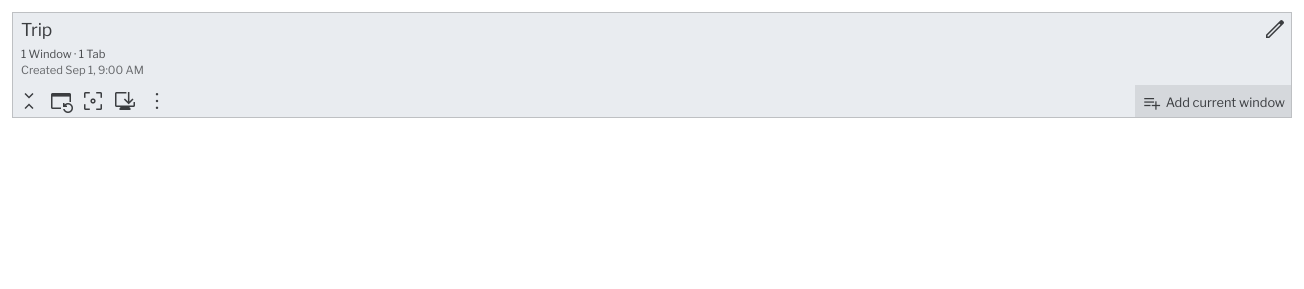
Test: the header › its ⋮ Rename session opens the title field
Click the button named "More actions".
click(157, 101)  # box x1=145 y1=87 x2=169 y2=115
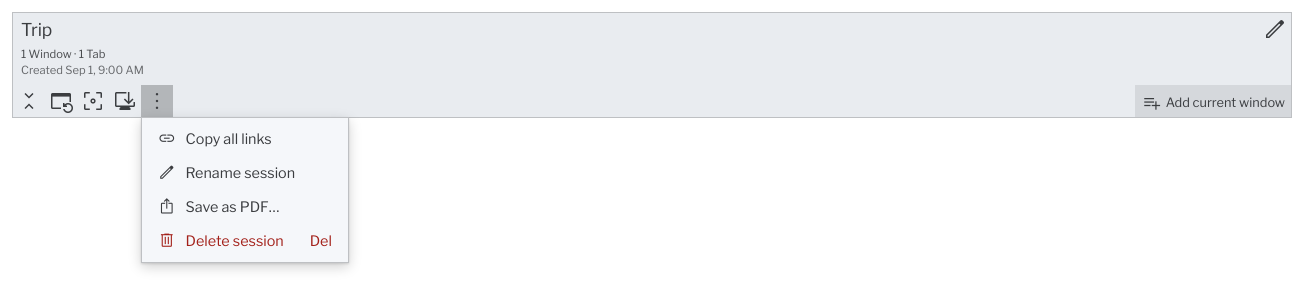
Click the menu item "Rename session".
click(245, 173)  # box x1=146 y1=156 x2=344 y2=190
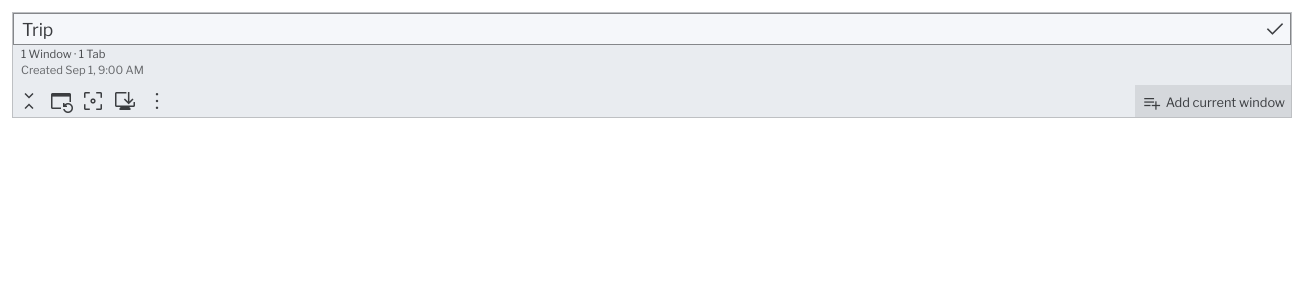
Expected: the field holds "Trip", x1=13 y1=13 x2=1291 y2=45
